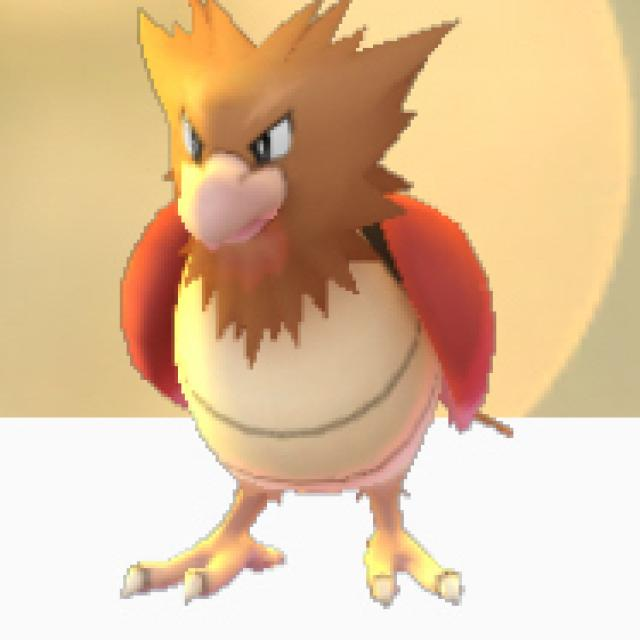Spearow: (112, 3, 497, 612)
